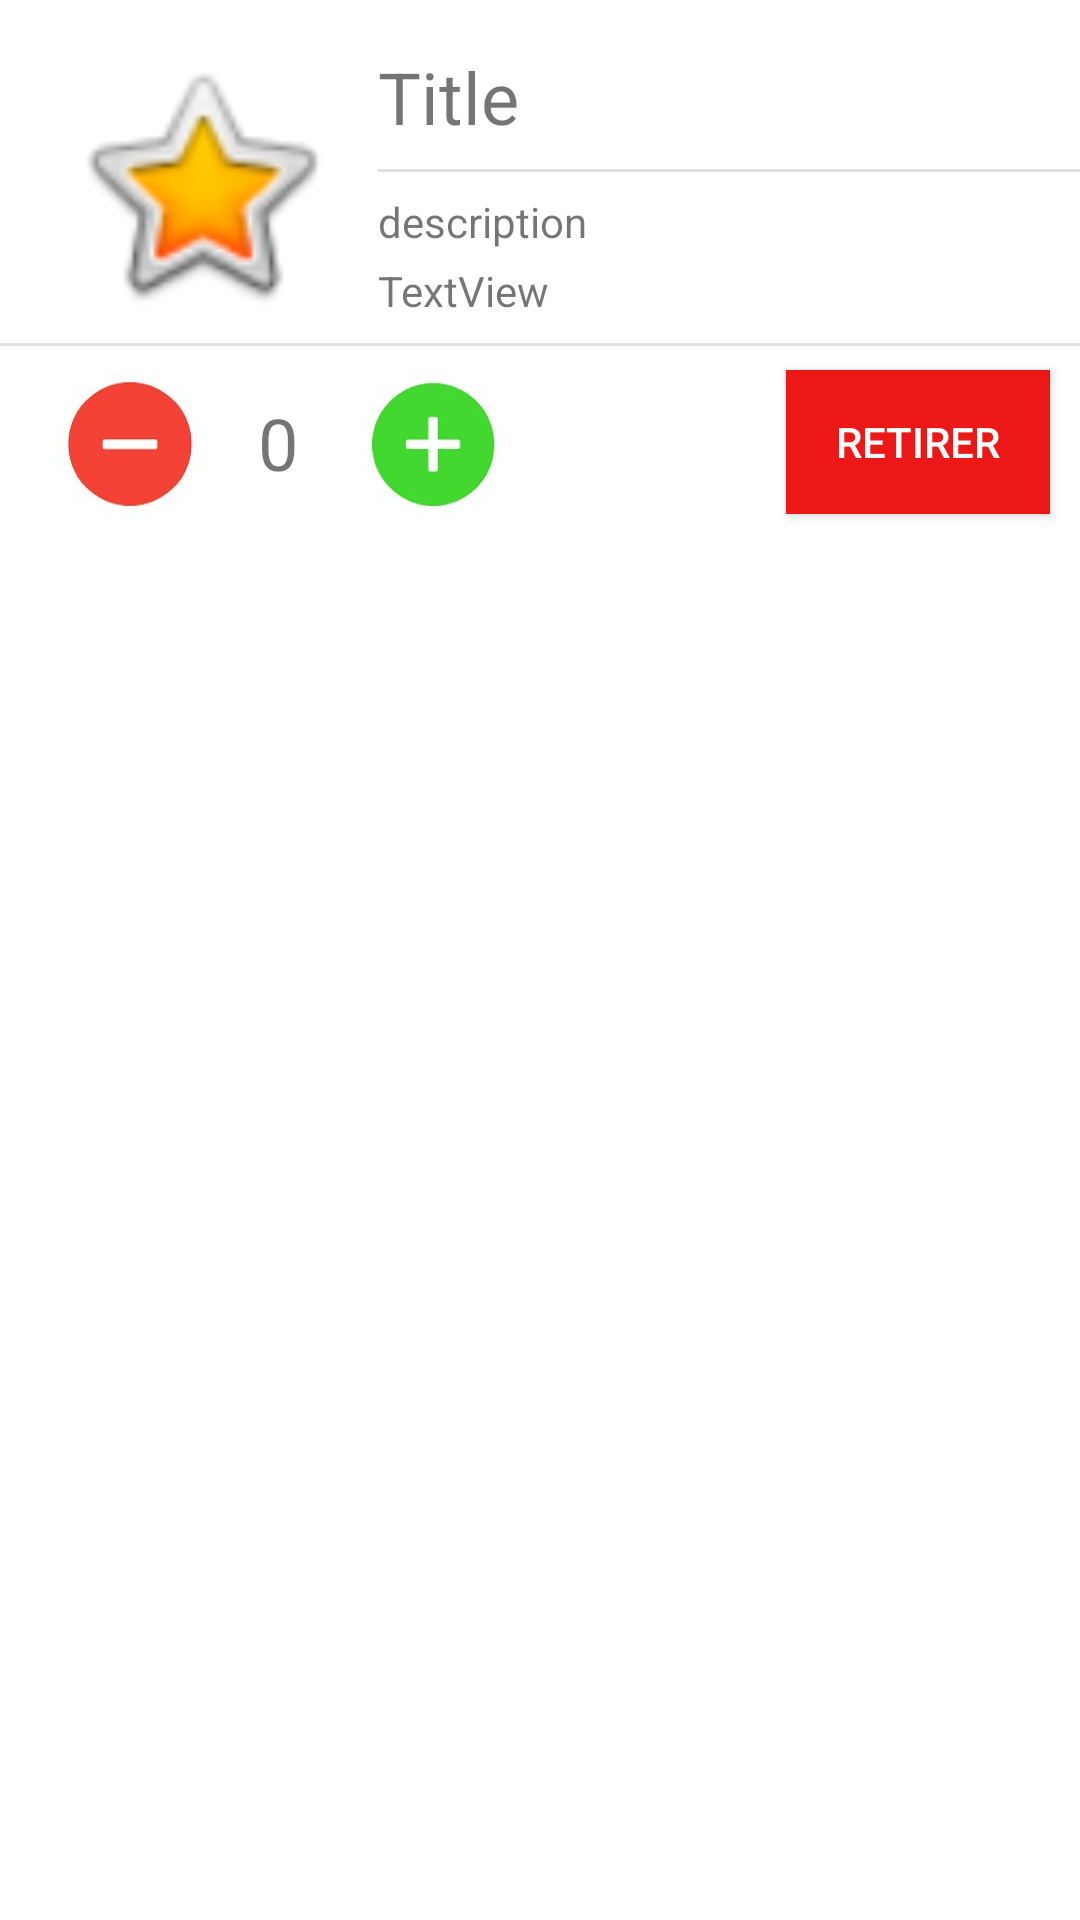

Named icons in this screenshot (1080px×1920px) and their centers, point (x, y):
minus: point (130, 444)
plus: point (433, 444)
star on: point (203, 186)
